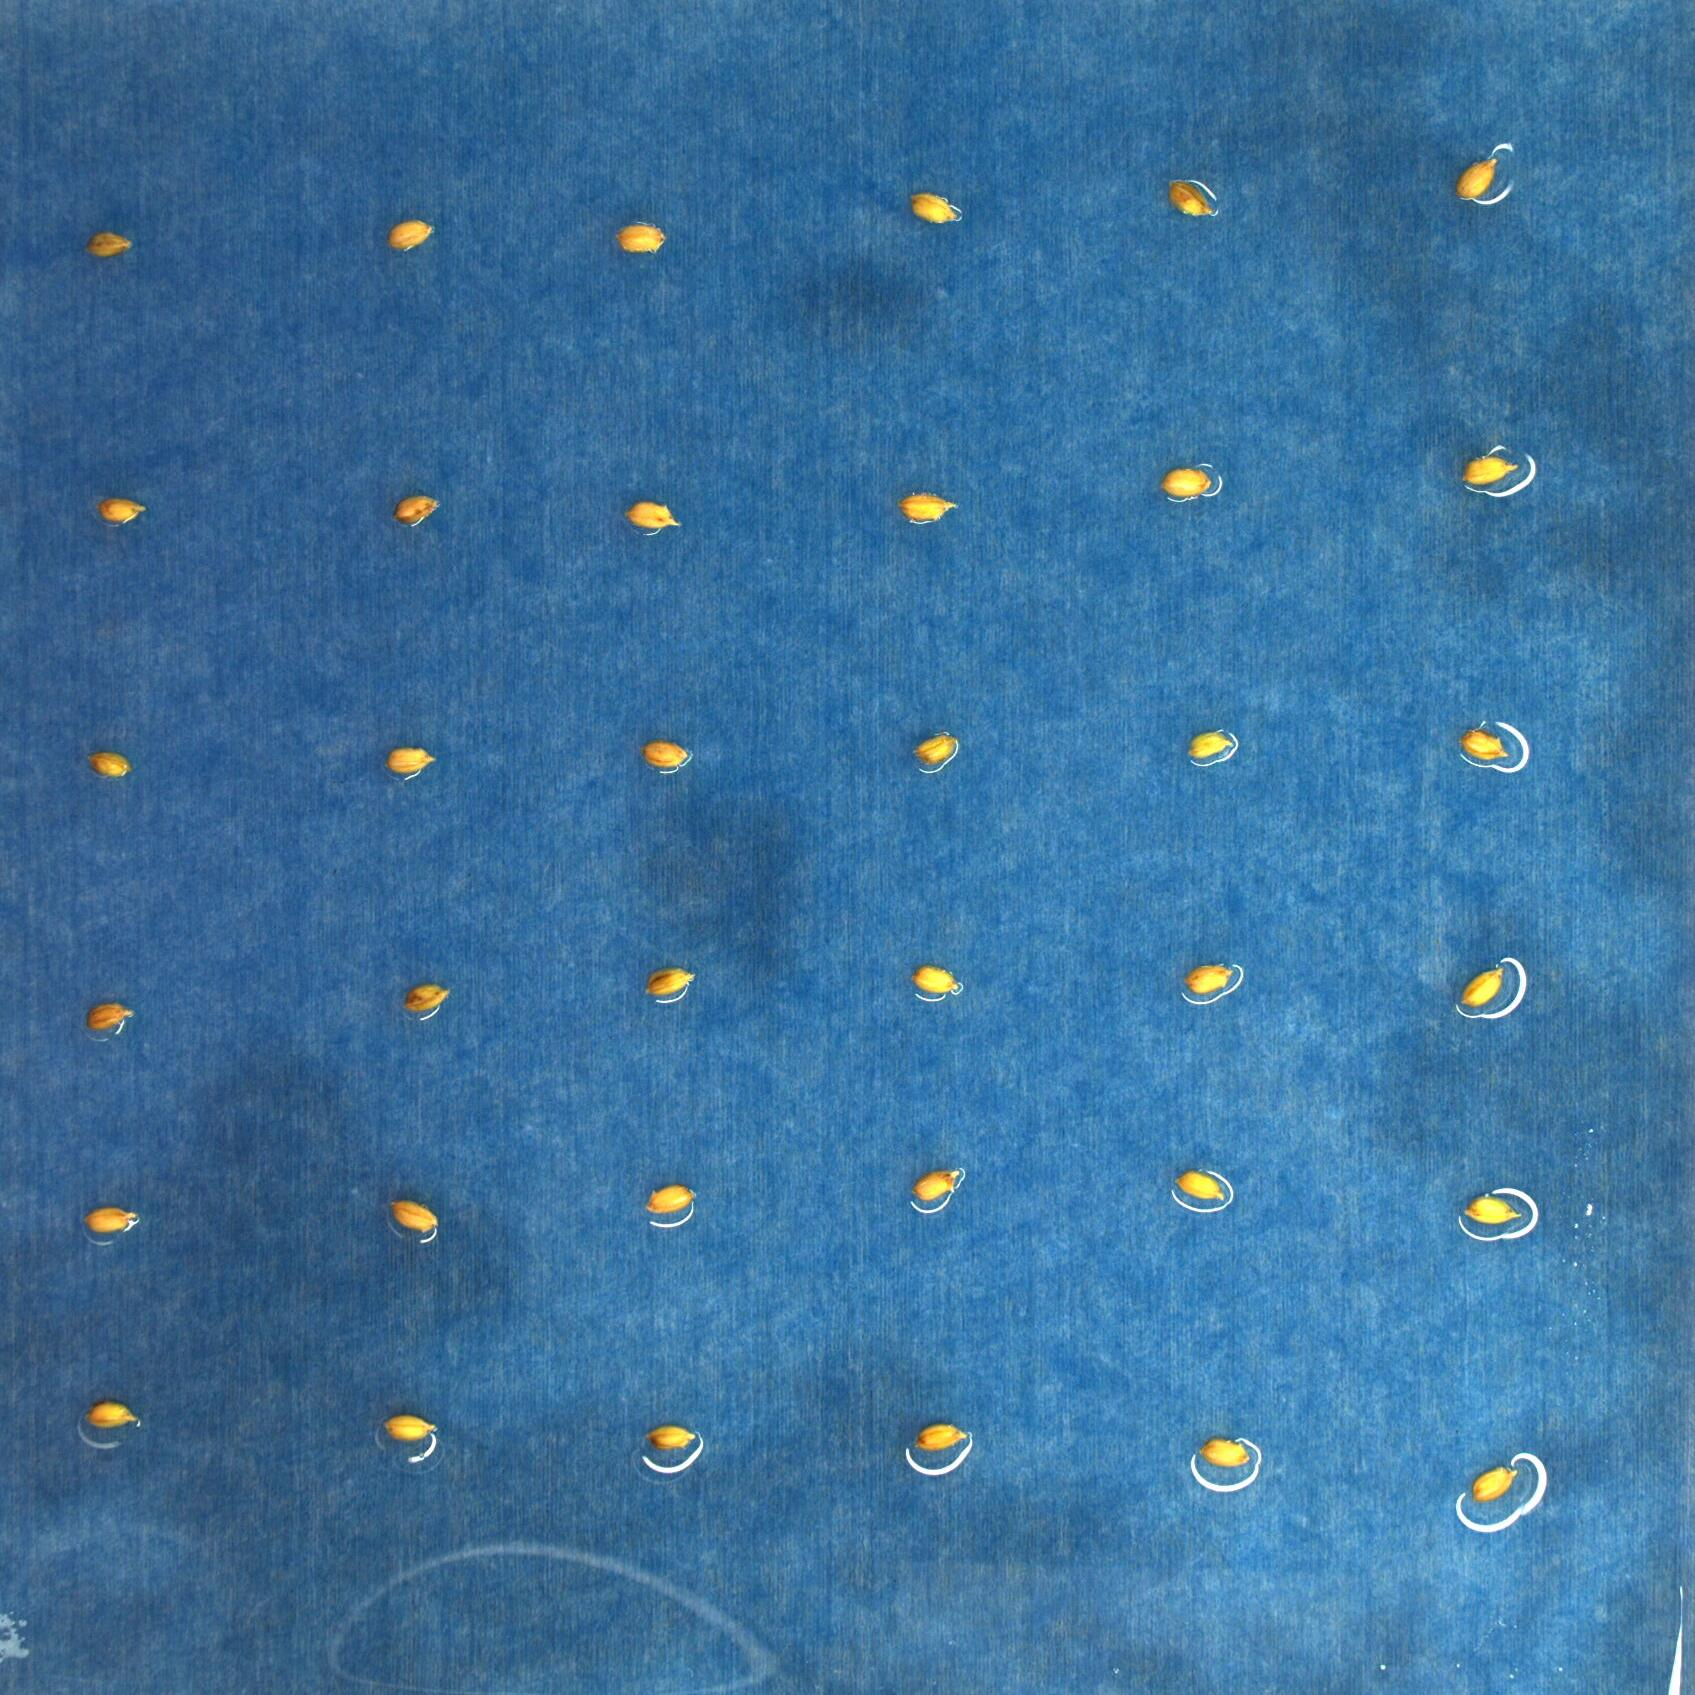not sprout: (1458, 726, 1513, 767), (1166, 177, 1215, 219), (1200, 1430, 1253, 1468), (1461, 449, 1520, 483), (626, 498, 685, 532), (1461, 1192, 1520, 1226), (1183, 961, 1236, 998), (613, 220, 667, 256), (906, 192, 962, 227), (913, 1420, 973, 1451), (908, 1167, 962, 1201), (379, 744, 438, 775), (385, 1198, 438, 1232), (85, 1201, 140, 1234), (640, 734, 691, 767), (914, 733, 961, 768), (643, 1183, 698, 1212), (85, 1402, 141, 1431), (899, 492, 961, 518), (1164, 469, 1214, 501), (407, 979, 453, 1014), (1177, 1166, 1225, 1198), (1461, 965, 1501, 1004), (1454, 158, 1496, 196), (910, 961, 962, 990), (644, 967, 698, 995), (85, 230, 137, 259), (386, 220, 438, 250), (1475, 1464, 1513, 1503), (1187, 726, 1236, 757), (98, 494, 147, 523), (646, 1423, 698, 1450), (385, 1412, 436, 1439), (85, 1001, 130, 1029), (88, 748, 130, 778), (394, 497, 438, 523)
